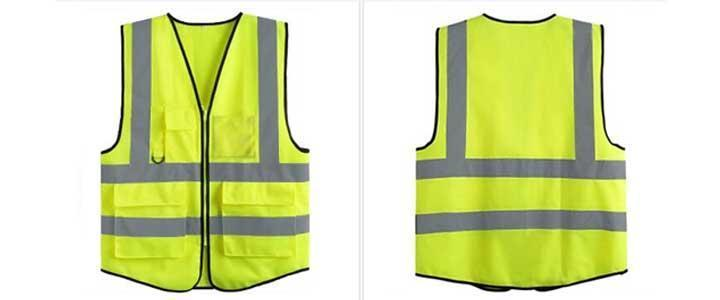vest: (413, 9, 630, 292), (98, 12, 312, 292)
